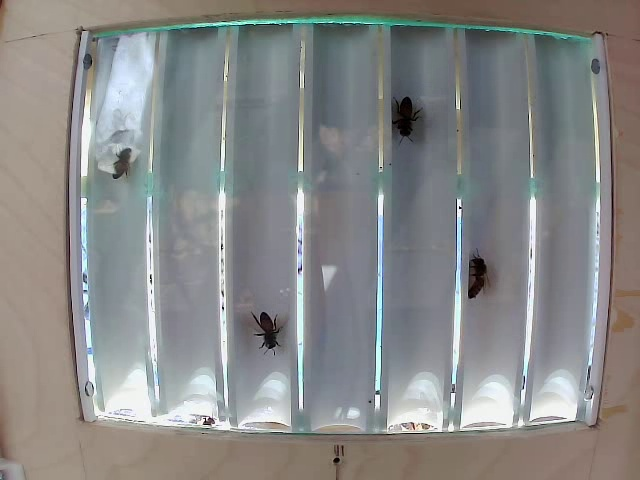bee: (459, 243, 496, 302), (100, 140, 138, 192), (390, 89, 427, 141), (256, 306, 290, 358)
